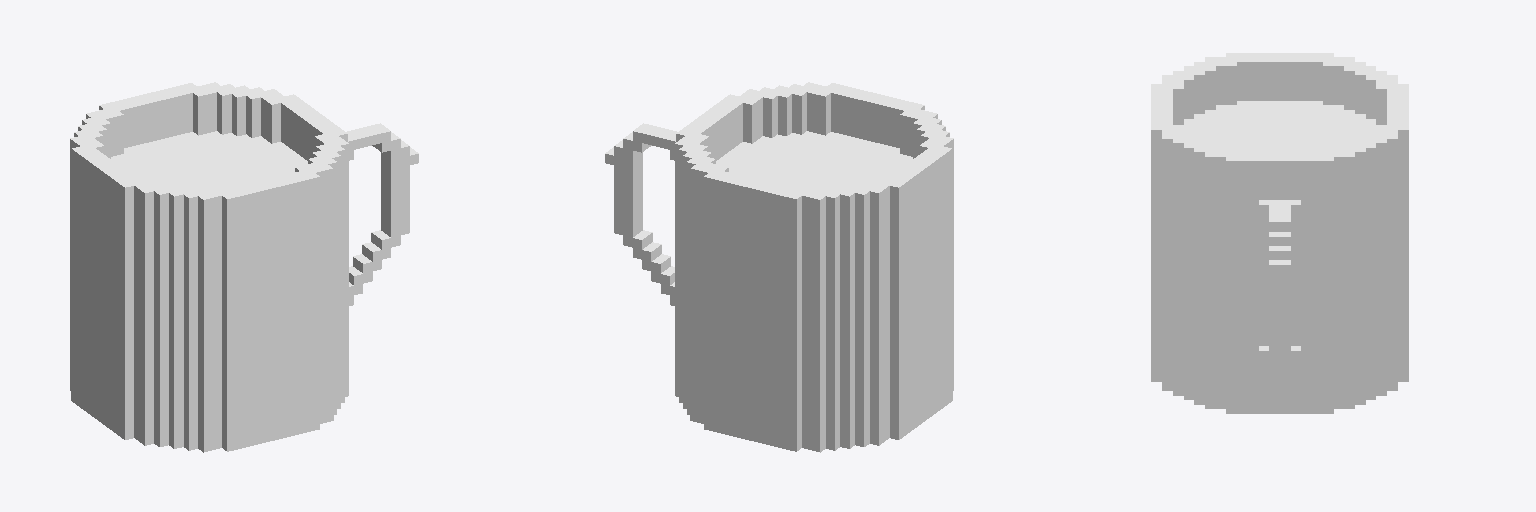
The model's file is V_Cup.obj.
3 renders of one model, left to right at view 1: azimuth 30°, elevation 25°; view 2: azimuth 150°, elevation 25°; view 3: azimuth 270°, elevation 25°, orthographic.
Visible parts, largest first — view 1: object 1; view 2: object 1; view 3: object 1.
Part boxes in pixels (x1,y1,x2,y2): object 1: (70,82,418,452); object 1: (605,82,953,452); object 1: (1151,53,1408,413).
Bounding box in the file's own units: 3.4 × 2.6 × 2.4.